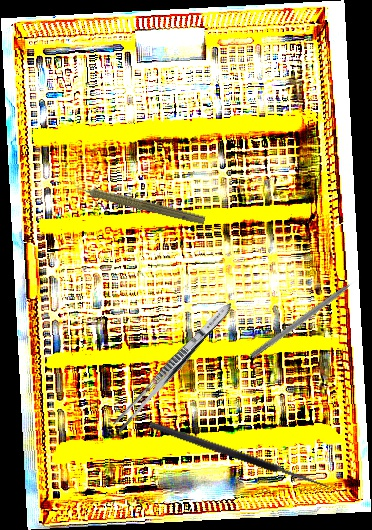Dressing Forceps: (109, 297, 237, 437)
Handpiece: (66, 177, 207, 227)
Hook Surgical: (148, 411, 334, 492), (249, 273, 365, 361)
